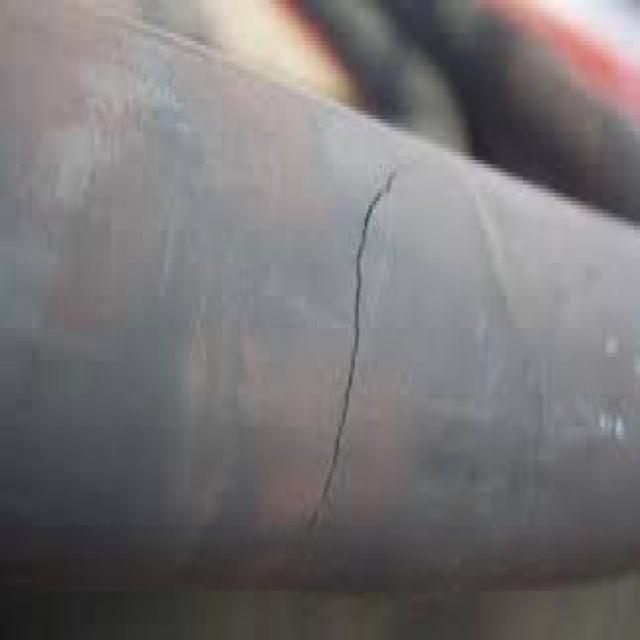crack: (306, 158, 404, 531)
